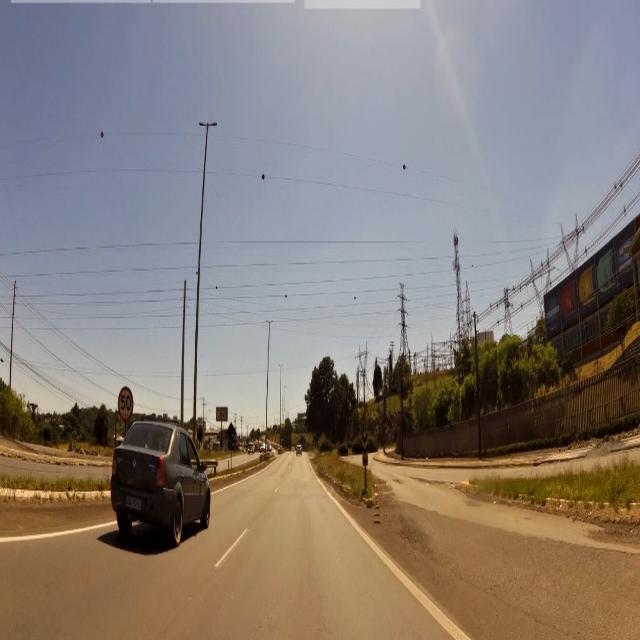MP: (361, 432, 368, 467)
R-19: (117, 386, 134, 419)
